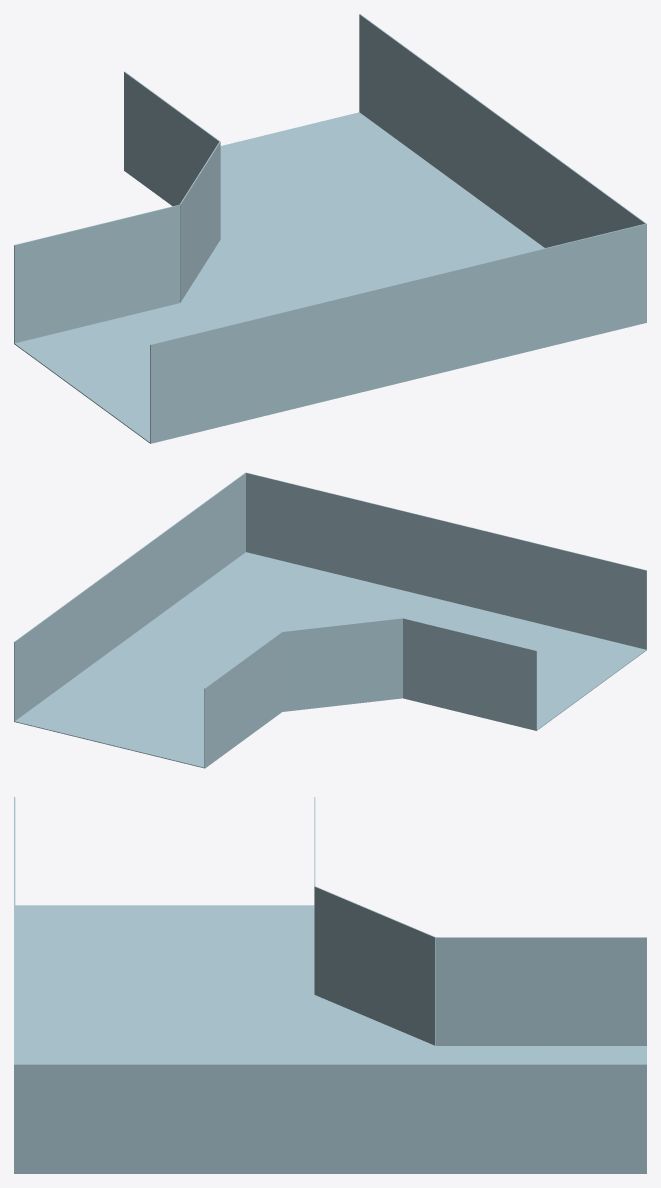
3 renders of one model, top to bottom at view 1: azimuth 30°, elevation 25°; view 2: azimuth 150°, elevation 25°; view 3: azimuth 270°, elevation 25°, orthographic. The views are drawn at different scales.
Visible parts, largest first — view 1: L2-C11; view 2: L2-C11; view 3: L2-C11.
Part boxes in pixels (<box>): L2-C11: <box>14,14,646,443</box>; L2-C11: <box>14,472,646,768</box>; L2-C11: <box>14,797,646,1173</box>.
Size of the model in its own units: 1.05 by 0.2 by 1.05.
